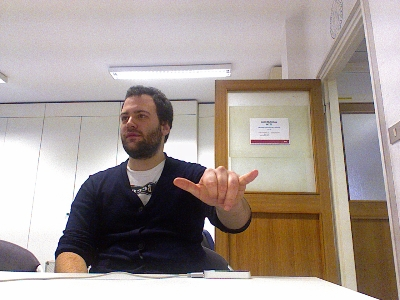六六六: (172, 165, 259, 213)
